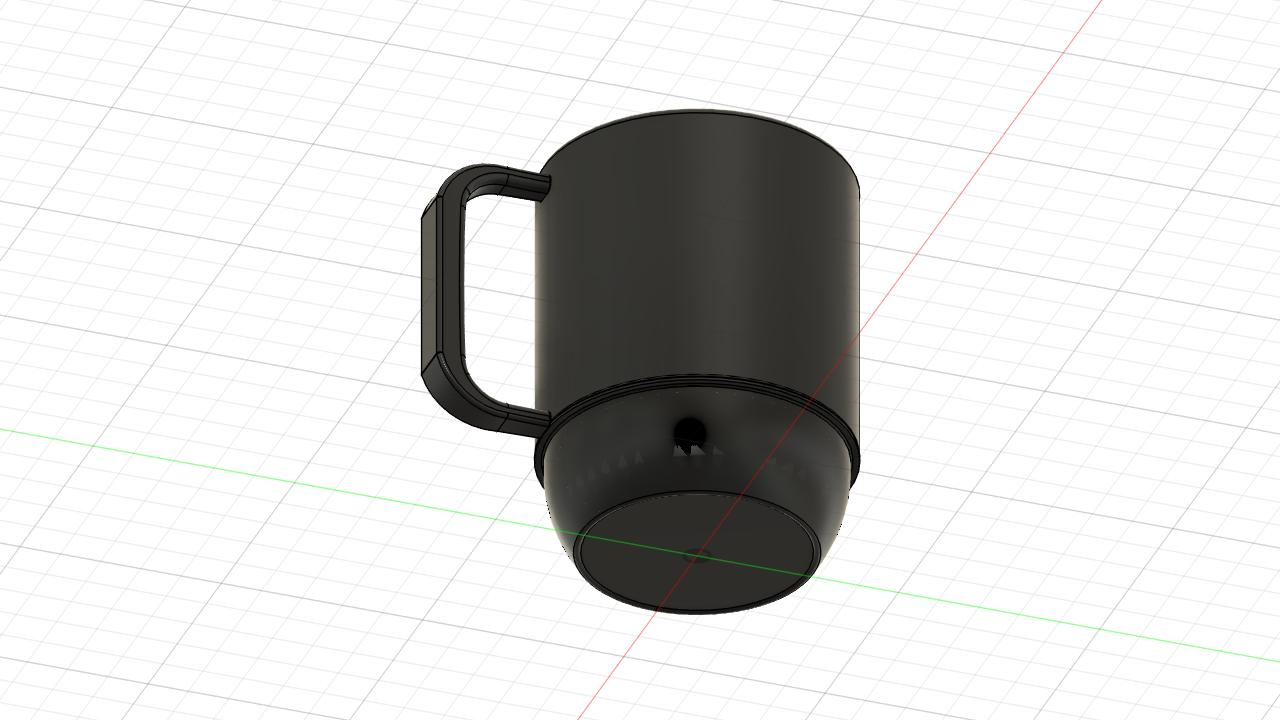mug-real100-3d100: (421, 111, 859, 613)
